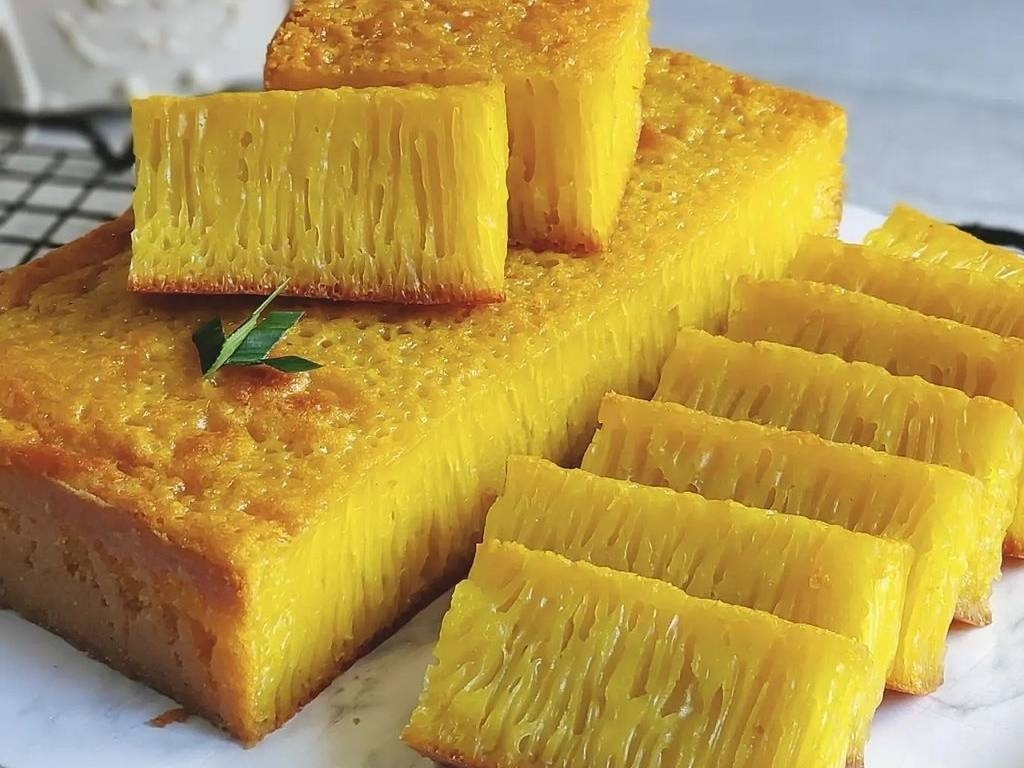bika_ambon: (478, 427, 921, 764), (99, 68, 556, 316), (402, 532, 872, 768)
